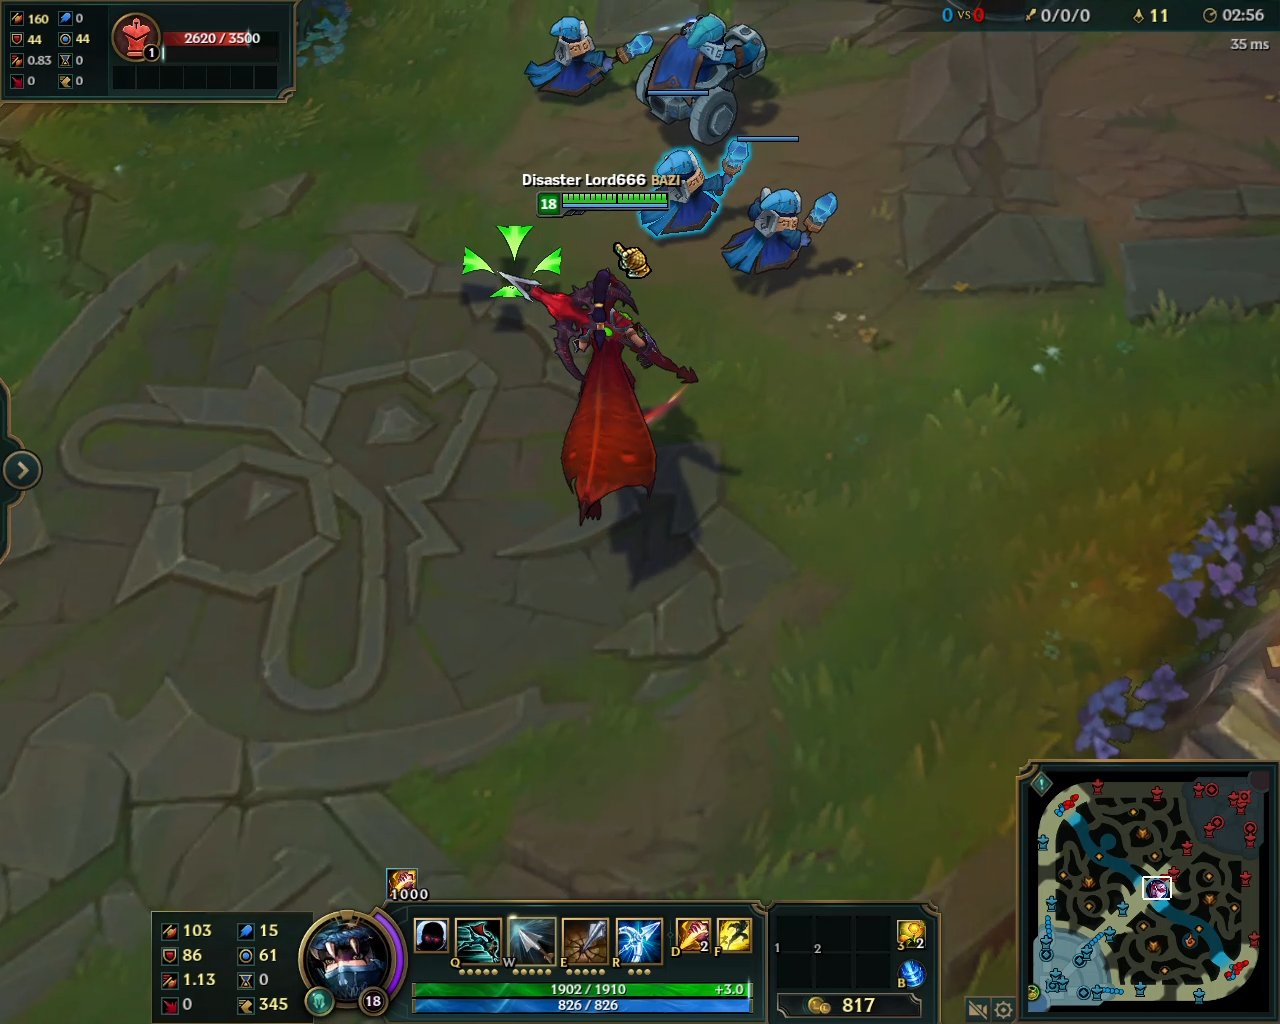Vayne: (505, 254, 705, 535)
